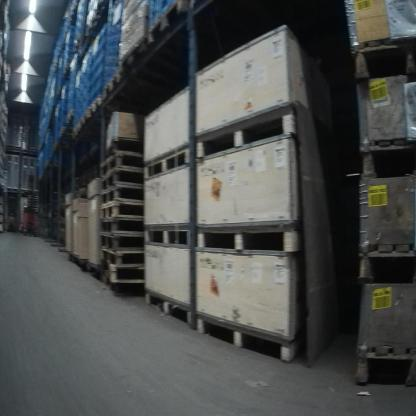forklift: (23, 174, 37, 238), (6, 196, 18, 233)
pallet: (194, 99, 299, 164), (193, 309, 298, 363), (194, 220, 301, 257), (350, 37, 416, 85), (356, 239, 416, 286), (355, 343, 416, 389), (356, 135, 416, 180), (144, 141, 194, 181), (145, 288, 195, 327), (147, 0, 187, 45), (143, 219, 193, 248), (100, 168, 145, 195), (100, 154, 143, 180), (119, 36, 148, 74), (101, 245, 145, 267), (104, 137, 144, 161), (101, 184, 144, 206), (100, 216, 144, 237), (100, 231, 144, 252), (100, 201, 145, 220), (109, 264, 145, 284), (102, 67, 121, 99), (88, 96, 102, 118), (79, 110, 90, 127), (71, 123, 79, 140)
